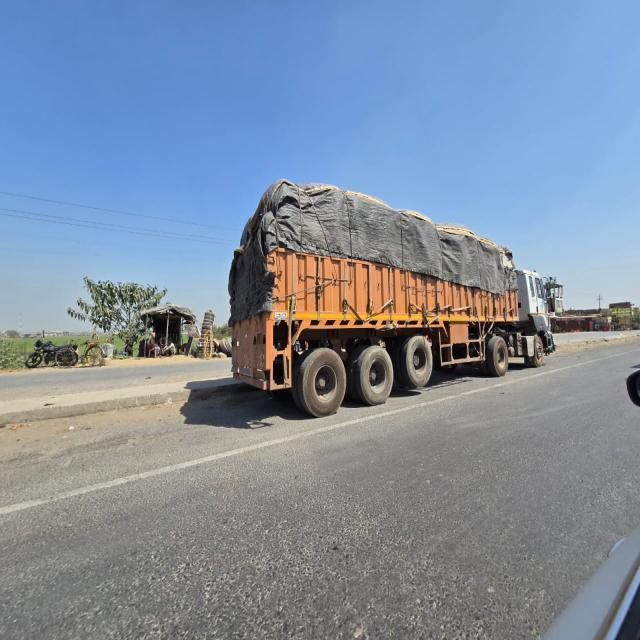covered: (228, 180, 546, 389)
